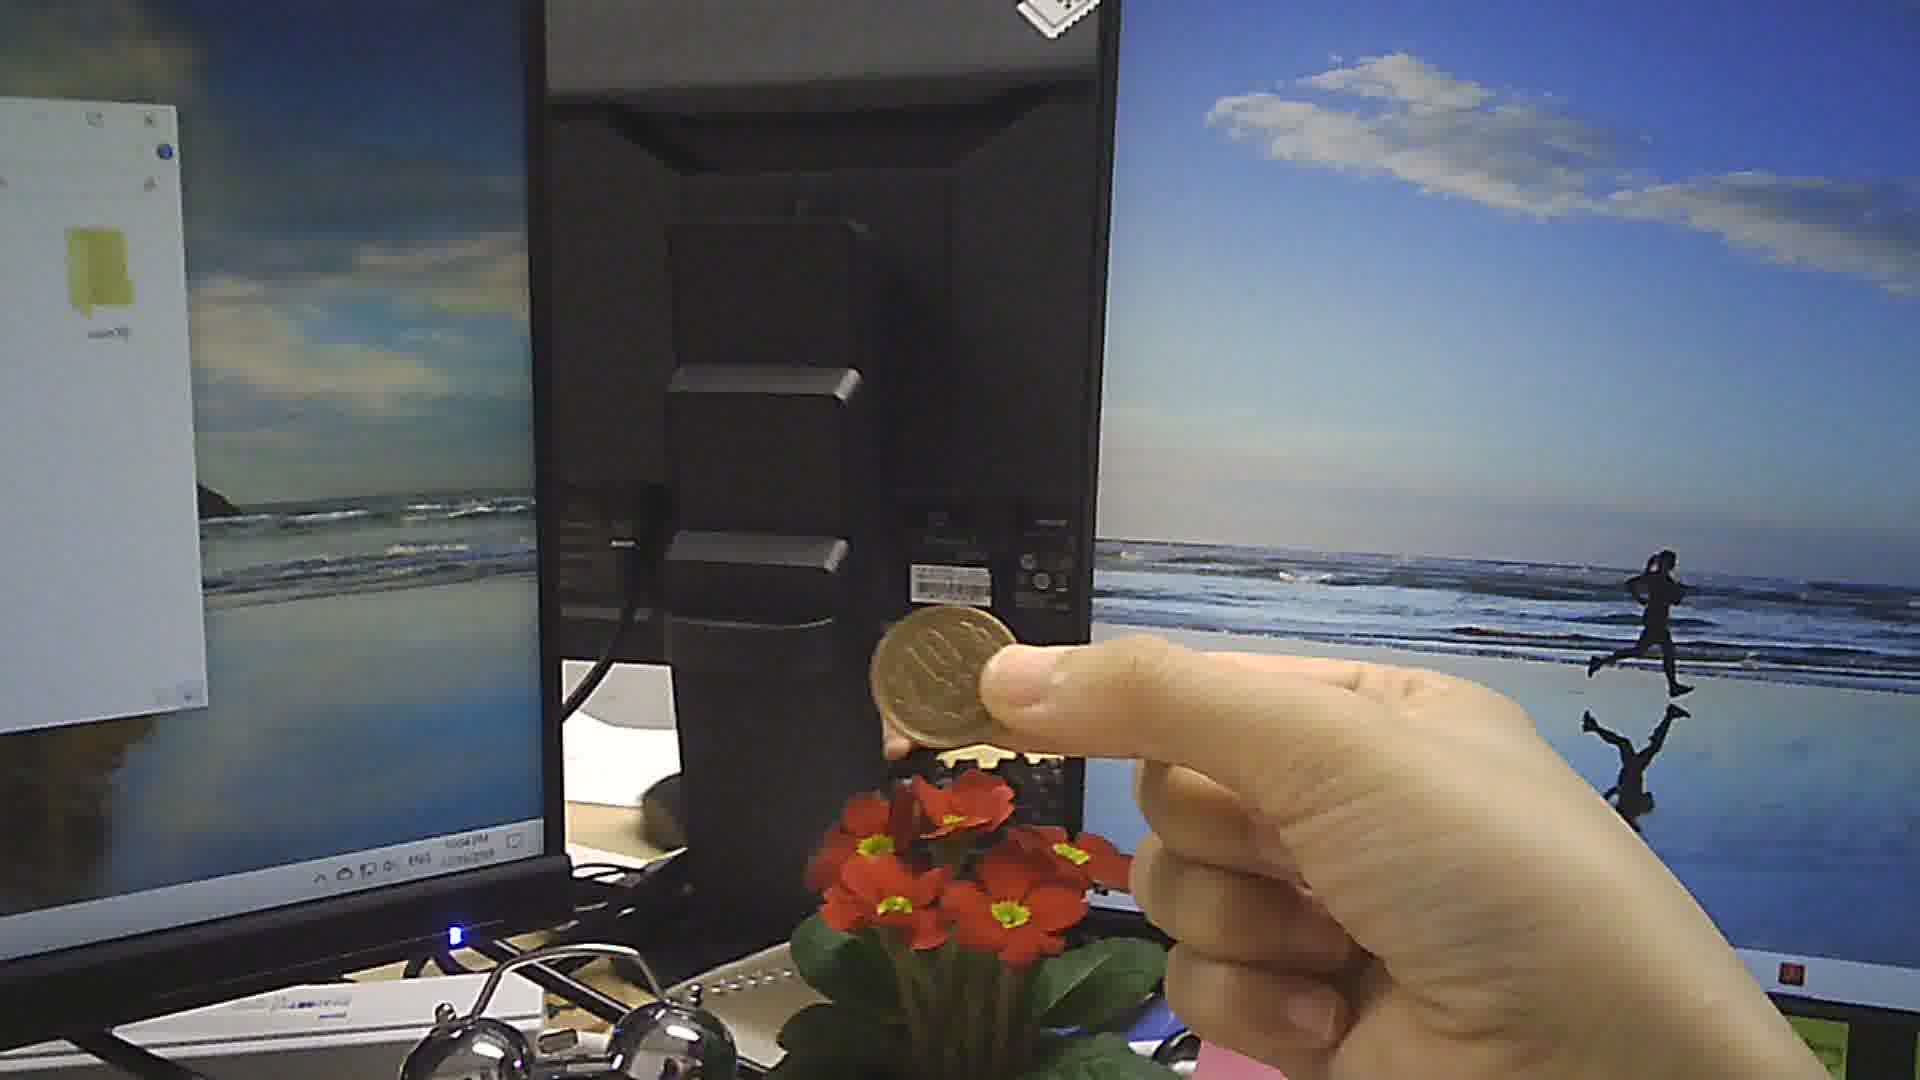10 Yen: (872, 603, 1025, 744)
